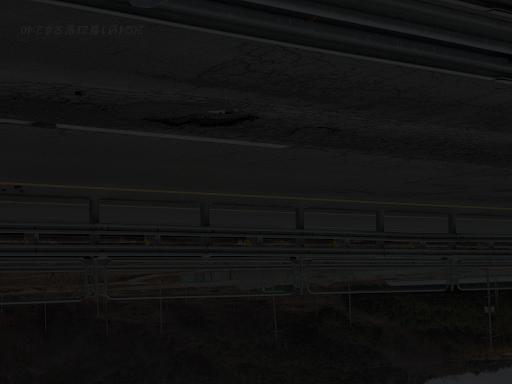pothole: (120, 101, 265, 140)
